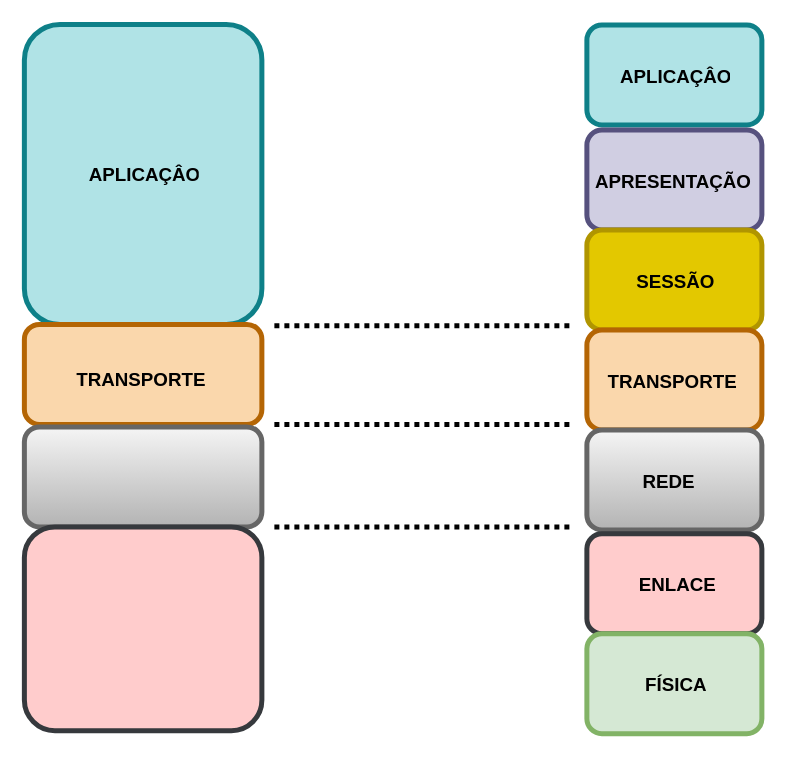
Image size: 785x758. Some labels were removed from this diagram. The shapes that lost their labels are listed below. From the top down, each one's centre as x and y in pixels, then its label:
At point (142, 476): "INTERNET".
At point (142, 628): "ACESSO A REDE".
